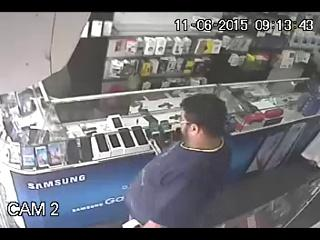shoplifting: (122, 94, 232, 228)
